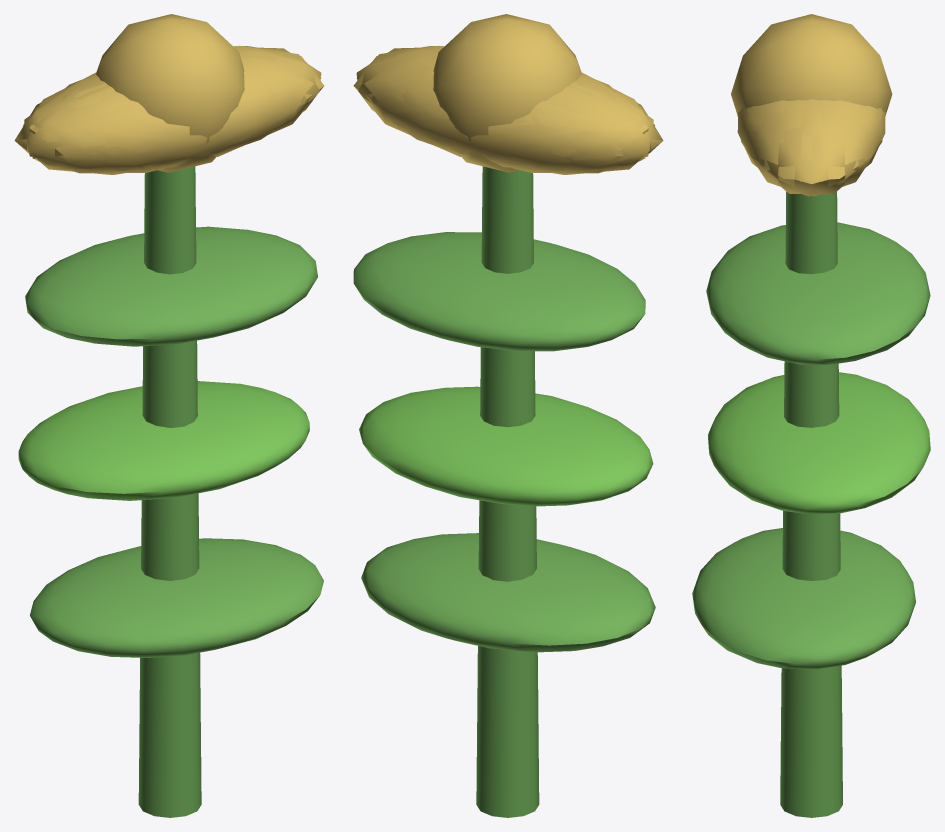
The model's file is oxalis-triangularis.glb.
3 renders of one model, left to right at view 1: azimuth 30°, elevation 25°; view 2: azimuth 150°, elevation 25°; view 3: azimuth 270°, elevation 25°, orthographic.
Visible parts, largest first — view 1: leaf0, stem, leaf2, leaf1, center, petal6, petal2, petal1, petal5, petal7, petal0; view 2: leaf2, leaf1, leaf0, stem, center, petal3, petal7, petal8, petal4, petal2, petal0; view 3: leaf2, leaf0, leaf1, stem, center, petal0, petal4, petal5, petal8, petal1.
Part boxes in pixels (<box>): leaf0: <box>30,538,323,657</box>; stem: <box>138,166,201,817</box>; leaf2: <box>25,226,317,346</box>; leaf1: <box>18,381,309,500</box>; center: <box>96,14,244,172</box>; petal6: <box>32,86,230,173</box>; petal2: <box>24,80,176,174</box>; petal1: <box>102,64,306,171</box>; petal5: <box>165,54,324,163</box>; petal7: <box>14,75,115,166</box>; petal0: <box>238,47,321,146</box>; leaf2: <box>353,232,645,351</box>; leaf1: <box>359,386,653,506</box>; leaf0: <box>361,533,655,652</box>; stem: <box>476,166,539,817</box>; center: <box>433,14,581,172</box>; petal3: <box>447,86,645,173</box>; petal7: <box>501,80,653,174</box>; petal8: <box>371,64,575,171</box>; petal4: <box>353,54,512,163</box>; petal2: <box>562,75,663,166</box>; petal0: <box>356,47,439,146</box>; leaf2: <box>706,222,930,364</box>; leaf0: <box>692,528,915,669</box>; leaf1: <box>708,372,930,514</box>; stem: <box>780,191,842,817</box>; center: <box>731,14,892,113</box>; petal0: <box>752,99,871,193</box>; petal4: <box>799,100,882,196</box>; petal5: <box>741,100,823,196</box>; petal8: <box>835,100,885,168</box>; petal1: <box>737,100,788,168</box>.
Size of the model in its own units: 0.1541 by 0.3853 by 0.1063.
